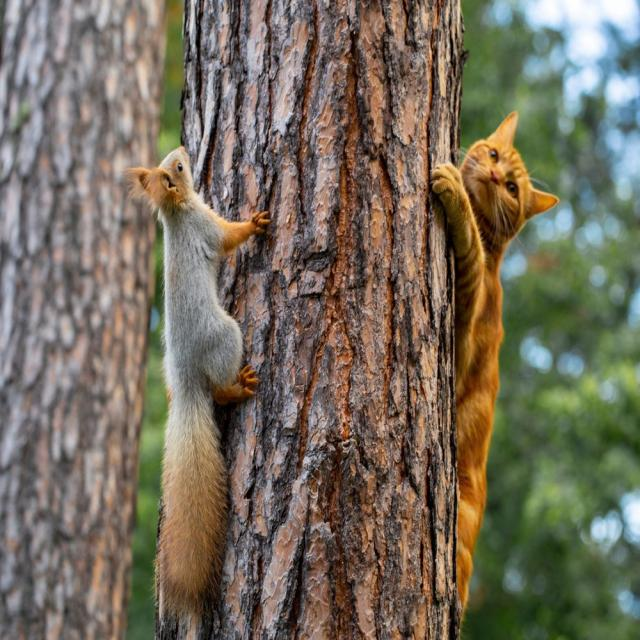squirrel: (125, 146, 270, 619)
